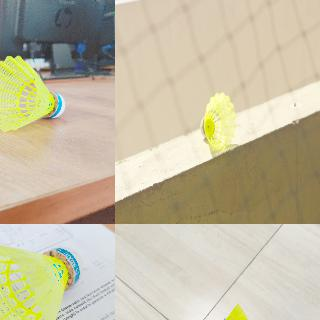shuttlecock: (0, 237, 83, 319), (0, 54, 67, 132), (200, 92, 236, 150), (220, 303, 248, 319)
